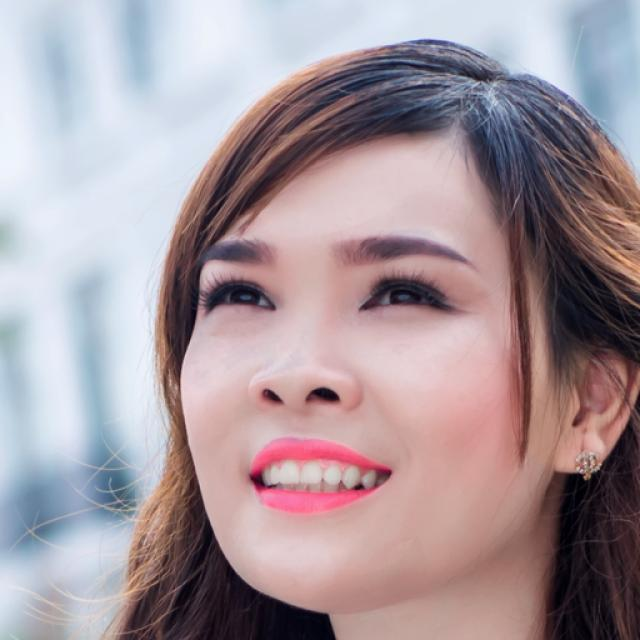happy: (180, 120, 558, 605)
